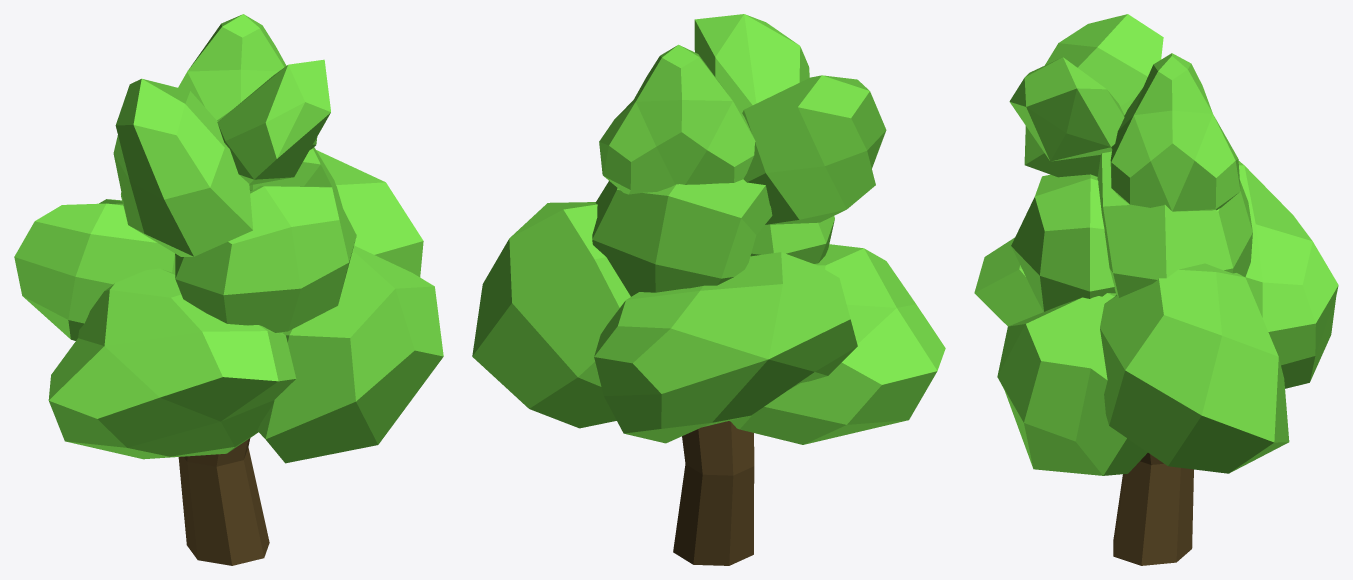
The model's file is Tree2.fbx.
3 renders of one model, left to right at view 1: azimuth 30°, elevation 25°; view 2: azimuth 150°, elevation 25°; view 3: azimuth 270°, elevation 25°, orthographic. The views are drawn at different scales.
Visible parts, largest first — view 1: rock.009; view 2: rock.009; view 3: rock.009.
Part boxes in pixels (x1,y1,x2,y2): rock.009: (14,14,443,565); rock.009: (472,14,945,565); rock.009: (974,14,1338,565).
Size of the model in its own units: 177 by 227 by 271.
